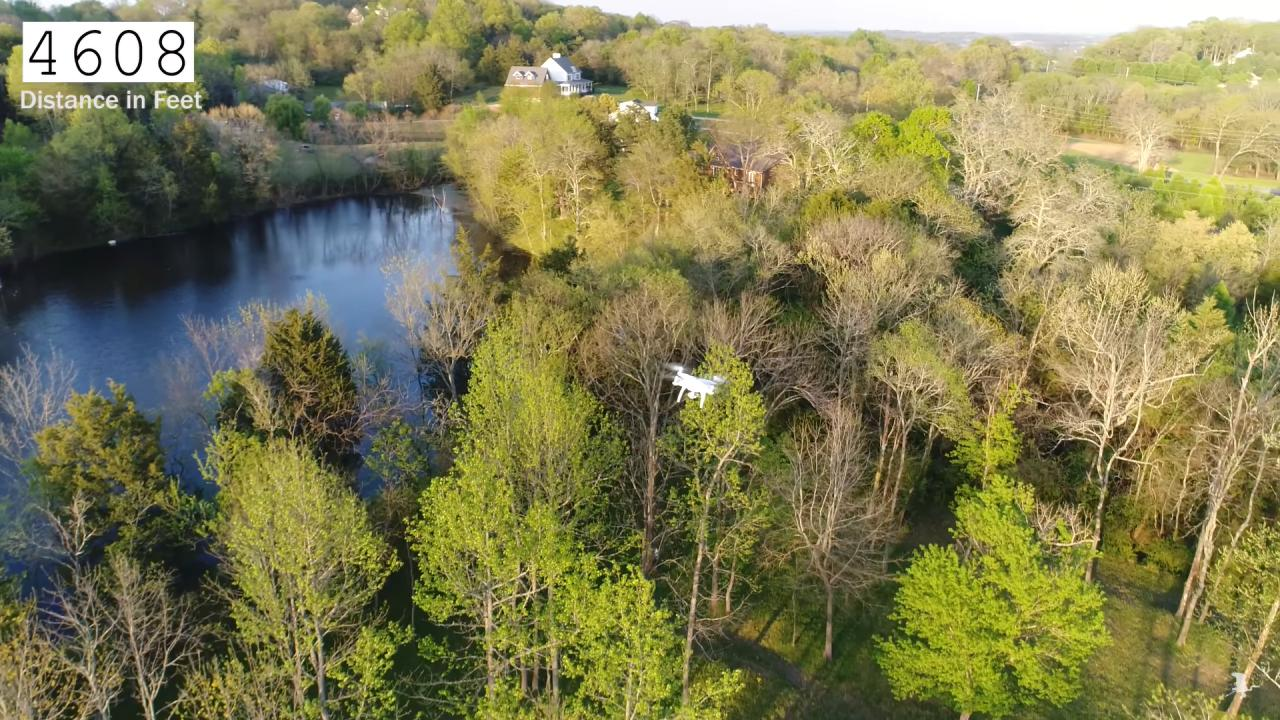Drone: (654, 352, 739, 420)
